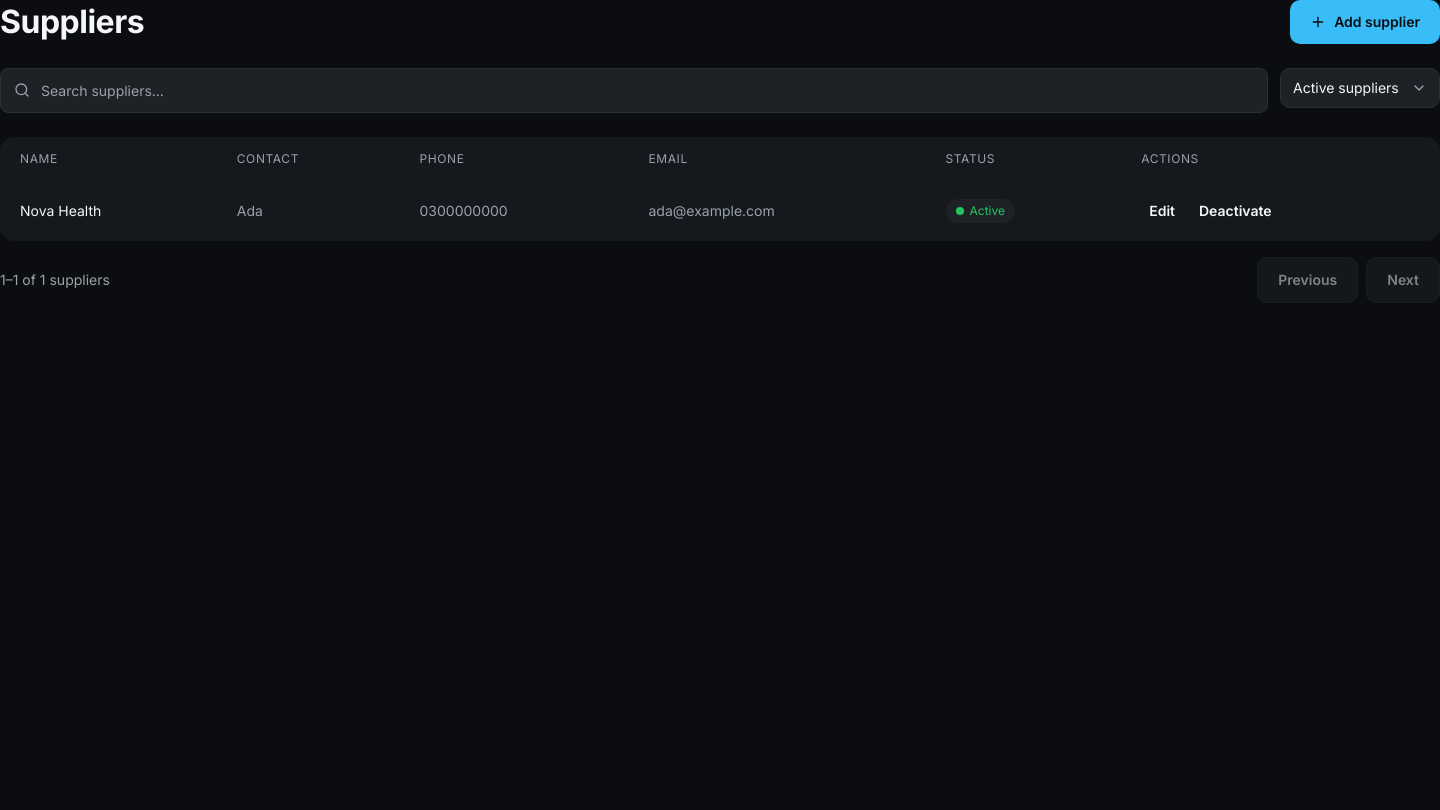
Test case: Suppliers › requires confirmation before deactivating and refreshes after success
The width and height of the screenshot is (1440, 810).
Click the button "Deactivate": point(1235, 211) [1191, 197, 1280, 225]
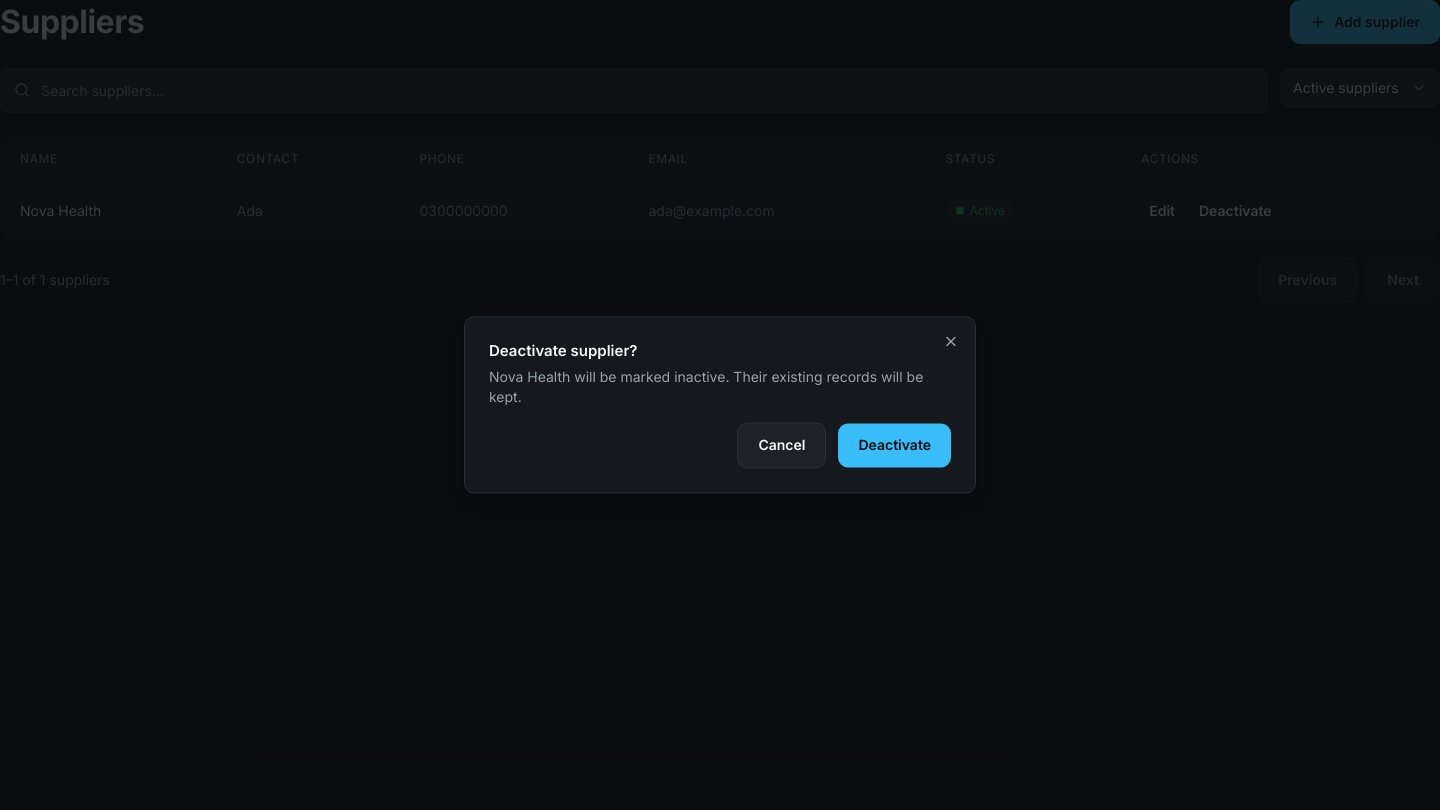
Click the button "Deactivate": point(895, 446) [838, 424, 951, 468]
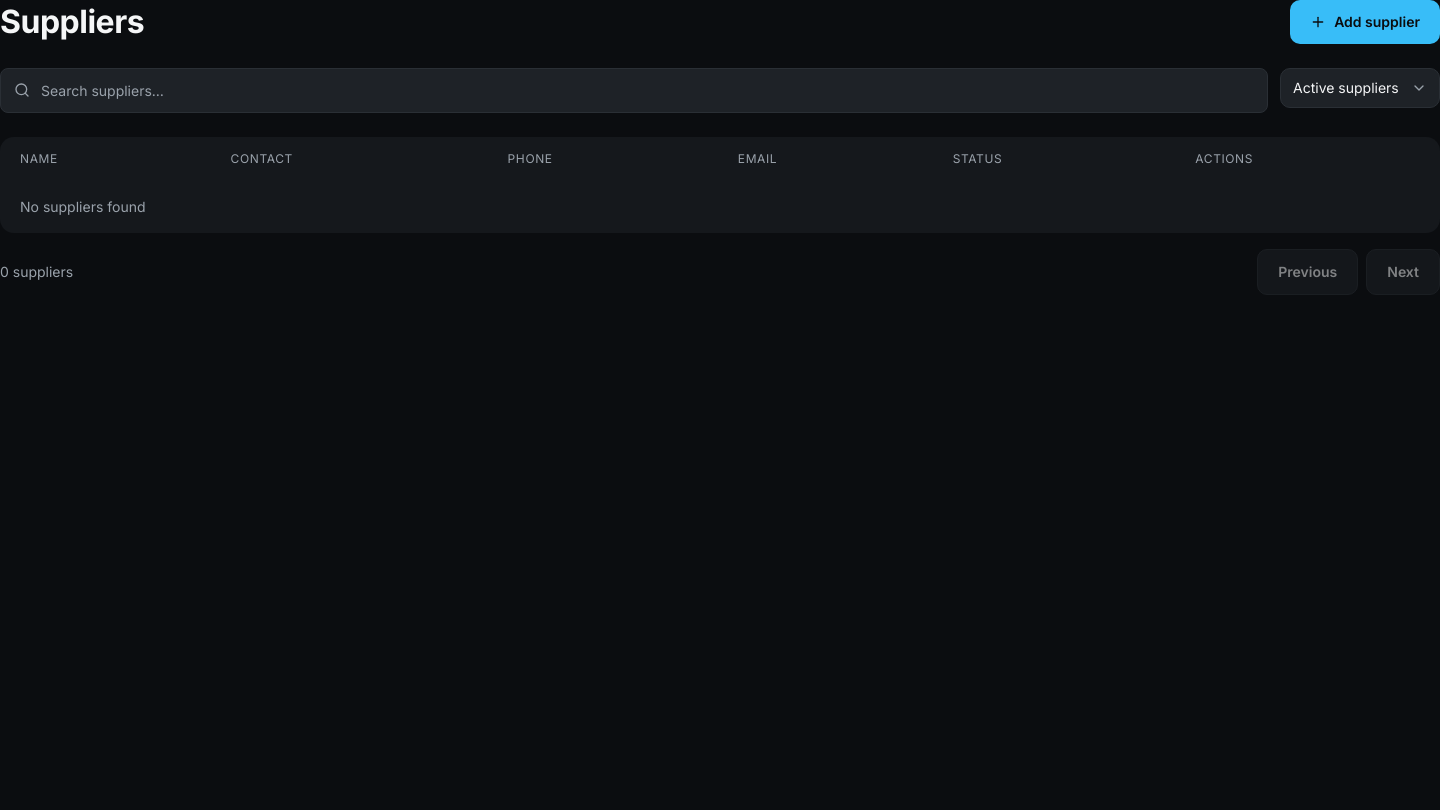
Now the text "Nova Health" is gone
